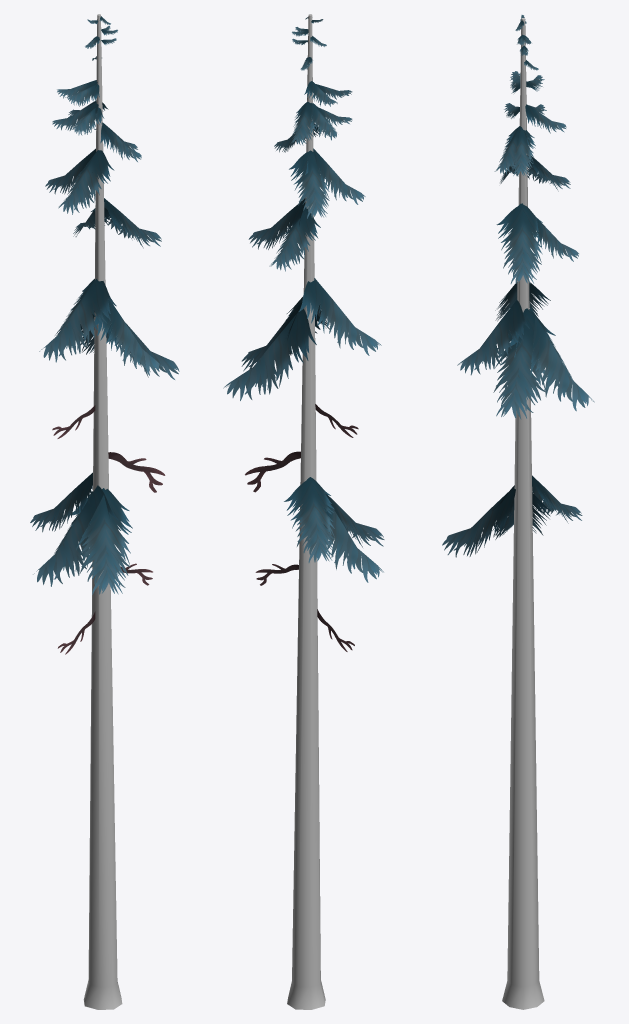
File: Arbol_3_Final.fbx
The picture shows the model from 3 angles, left to right: view 1: azimuth 30°, elevation 25°; view 2: azimuth 150°, elevation 25°; view 3: azimuth 270°, elevation 25°; orthographic projection.
Visible parts, largest first — view 1: Arbol_2; view 2: Arbol_2; view 3: Arbol_2.
Part boxes in pixels (bbox=[...]): Arbol_2: bbox=[30, 14, 179, 1009]; Arbol_2: bbox=[223, 14, 384, 1009]; Arbol_2: bbox=[442, 15, 594, 1009].
Bounding box in the file's own units: 256 × 1532 × 256.
